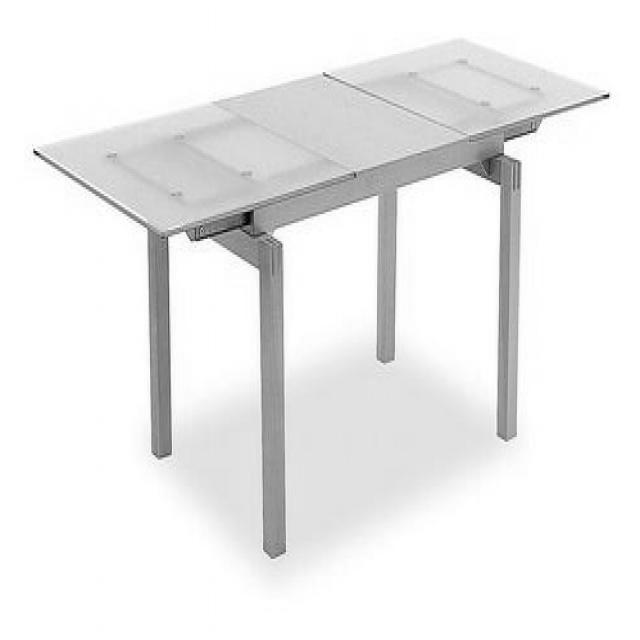table: (34, 36, 610, 560)
